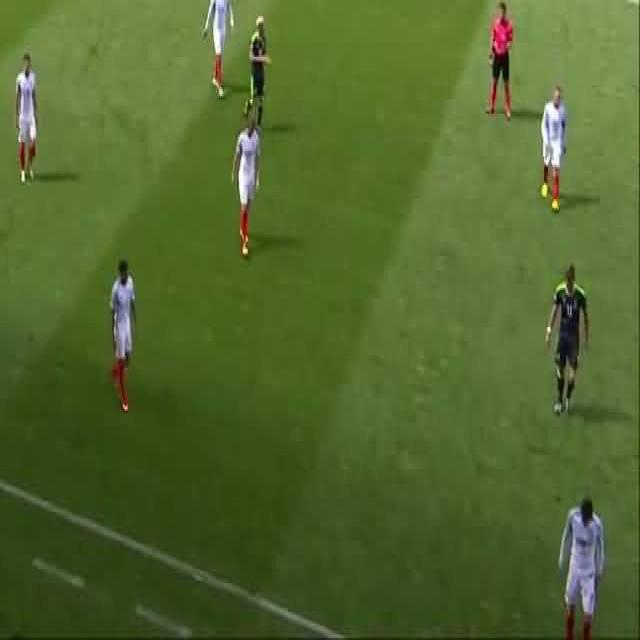player-white: (556, 497, 604, 640), (545, 266, 589, 414), (231, 111, 260, 259), (110, 260, 136, 414), (539, 85, 567, 214), (243, 16, 271, 134), (484, 0, 512, 118), (202, 0, 235, 98), (14, 54, 38, 184)
